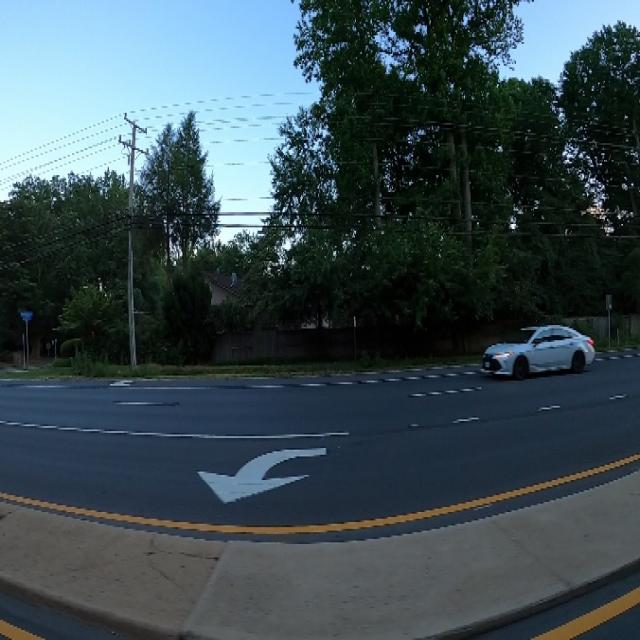car: (471, 310, 600, 389)
